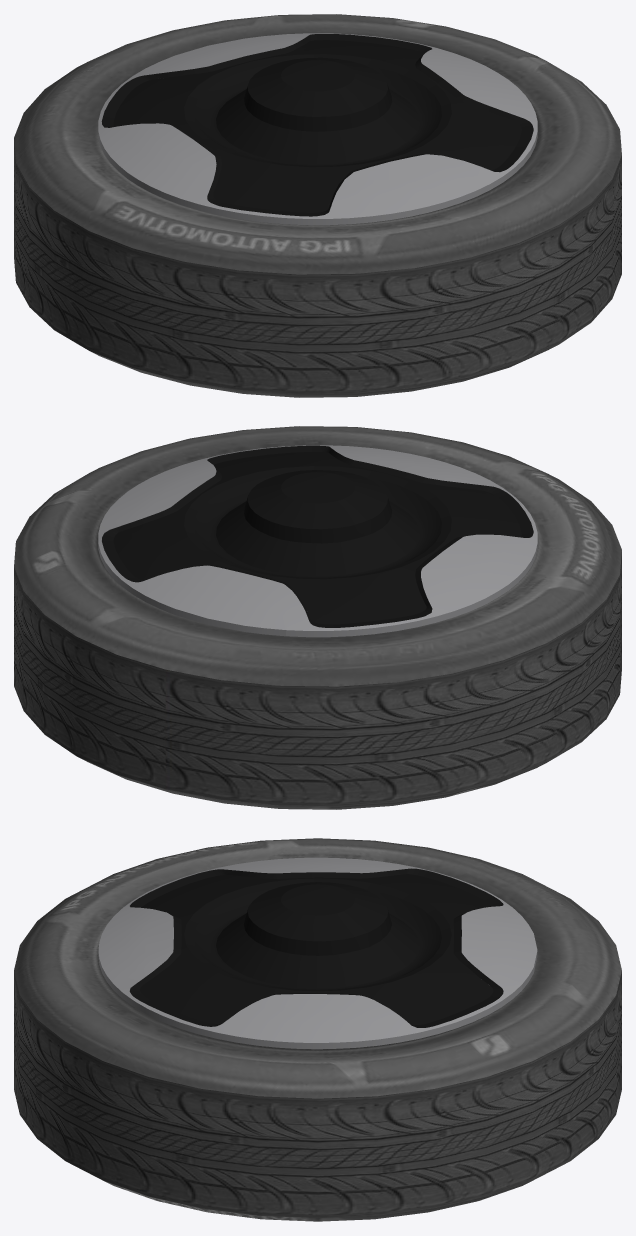
The model's file is model_wheel.obj.
3 views of the same model, one above another, from view 1: azimuth 30°, elevation 25°; view 2: azimuth 150°, elevation 25°; view 3: azimuth 270°, elevation 25° (orthographic).
Parts seen in each view (by area): view 1: Wheel_Cylinder; view 2: Wheel_Cylinder; view 3: Wheel_Cylinder.
Boxes of the visible parts, left/top/right/bottom form: Wheel_Cylinder: left=14, top=14, right=621, bottom=397; Wheel_Cylinder: left=14, top=426, right=621, bottom=809; Wheel_Cylinder: left=14, top=838, right=621, bottom=1221.
Bounding box in the file's own units: 0.7418 × 0.2805 × 0.7418.
